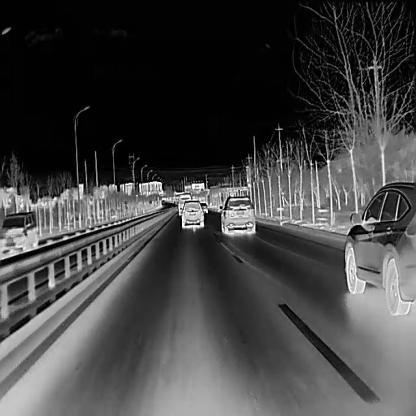car: (343, 179, 416, 315), (0, 210, 38, 257), (218, 193, 255, 234), (180, 199, 204, 228), (177, 191, 190, 214), (198, 201, 207, 213)
